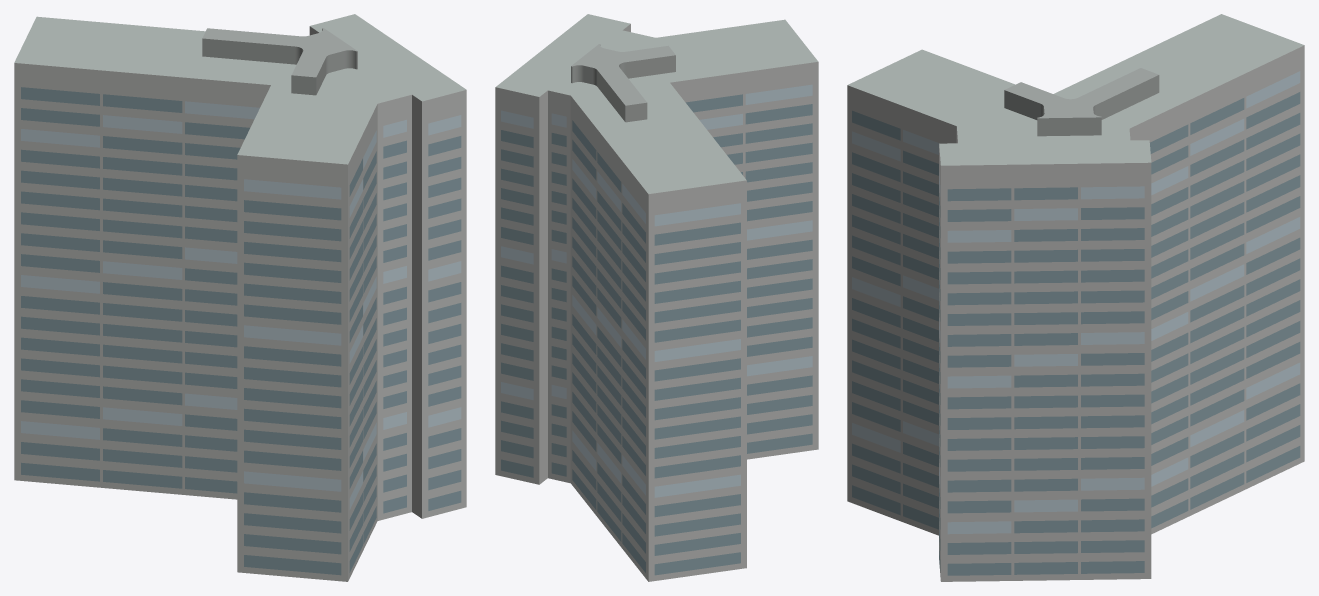
File: fallback-raemian-oksu-riverzen-107.glb
3 views of the same model, side by side, from view 1: azimuth 30°, elevation 25°; view 2: azimuth 150°, elevation 25°; view 3: azimuth 270°, elevation 25° (orthographic). The views are drawn at different scales.
Parts seen in each view (by area): view 1: fallback-raemian-oksu-riverzen-107; view 2: fallback-raemian-oksu-riverzen-107; view 3: fallback-raemian-oksu-riverzen-107.
Part boxes in pixels (x1,y1,x2,y2): fallback-raemian-oksu-riverzen-107: (14, 14, 466, 581); fallback-raemian-oksu-riverzen-107: (495, 14, 818, 581); fallback-raemian-oksu-riverzen-107: (847, 14, 1304, 581).
Size of the model in its own units: 43.5 by 58 by 55.38.
